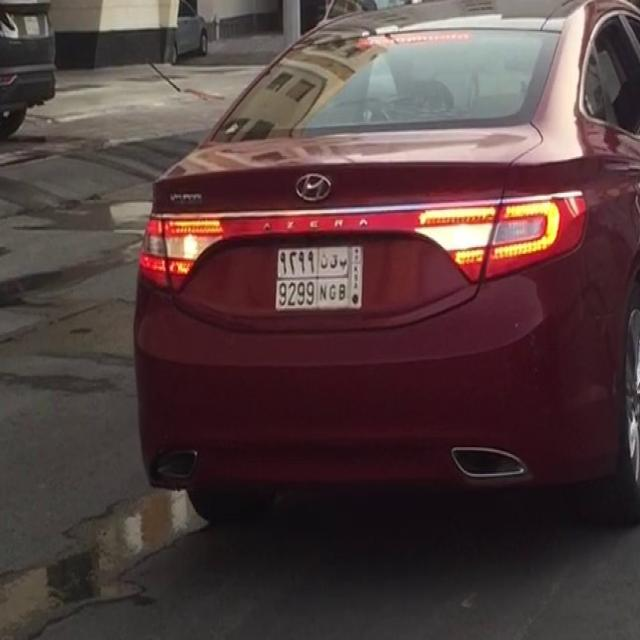Car-plate: (269, 239, 366, 318)
